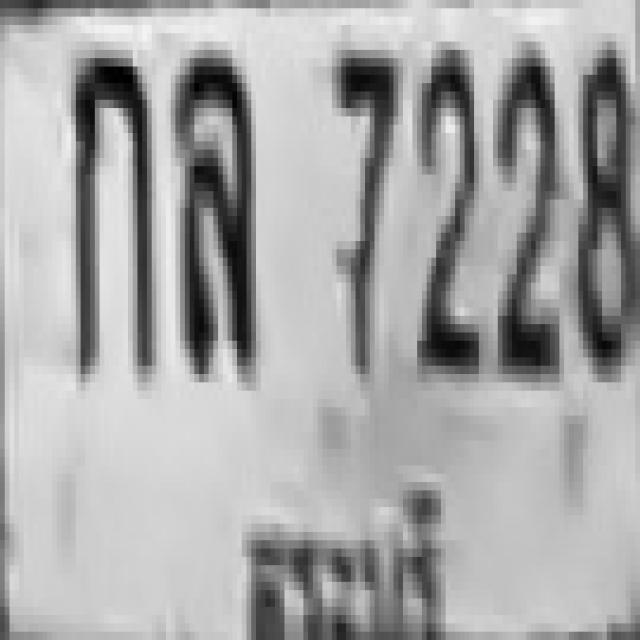2: (493, 46, 555, 370), (415, 46, 476, 370)
7: (327, 42, 394, 374)
8: (569, 37, 640, 370)
A01: (66, 46, 152, 370)
A36: (171, 42, 256, 374)
SRI: (234, 471, 451, 640)
